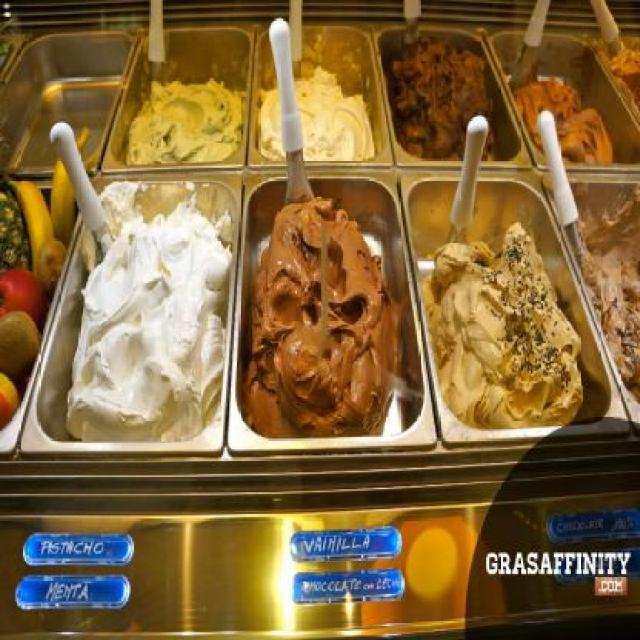Ice cream: (70, 191, 234, 440), (249, 197, 400, 440), (440, 219, 580, 430), (578, 184, 640, 408), (392, 38, 496, 162), (258, 66, 376, 162), (122, 76, 244, 168), (516, 76, 613, 173), (607, 49, 640, 120)
